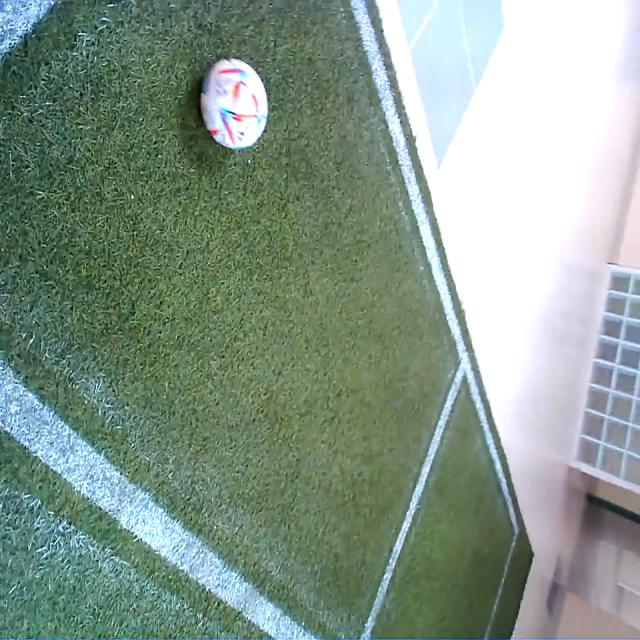ball: (202, 57, 269, 151)
